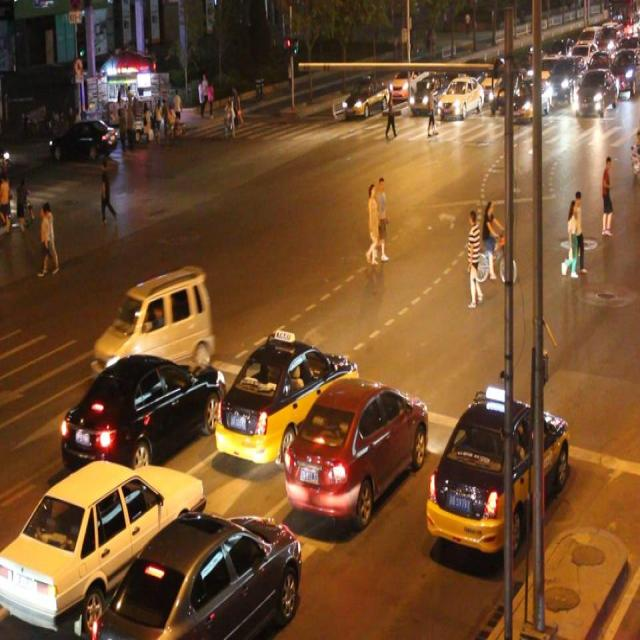car: (1, 455, 201, 631), (92, 505, 300, 640), (428, 391, 568, 554), (284, 381, 428, 519), (215, 330, 360, 465), (63, 349, 225, 463), (94, 272, 214, 379), (51, 118, 116, 156), (437, 76, 482, 120), (344, 76, 389, 117), (408, 71, 445, 114)
